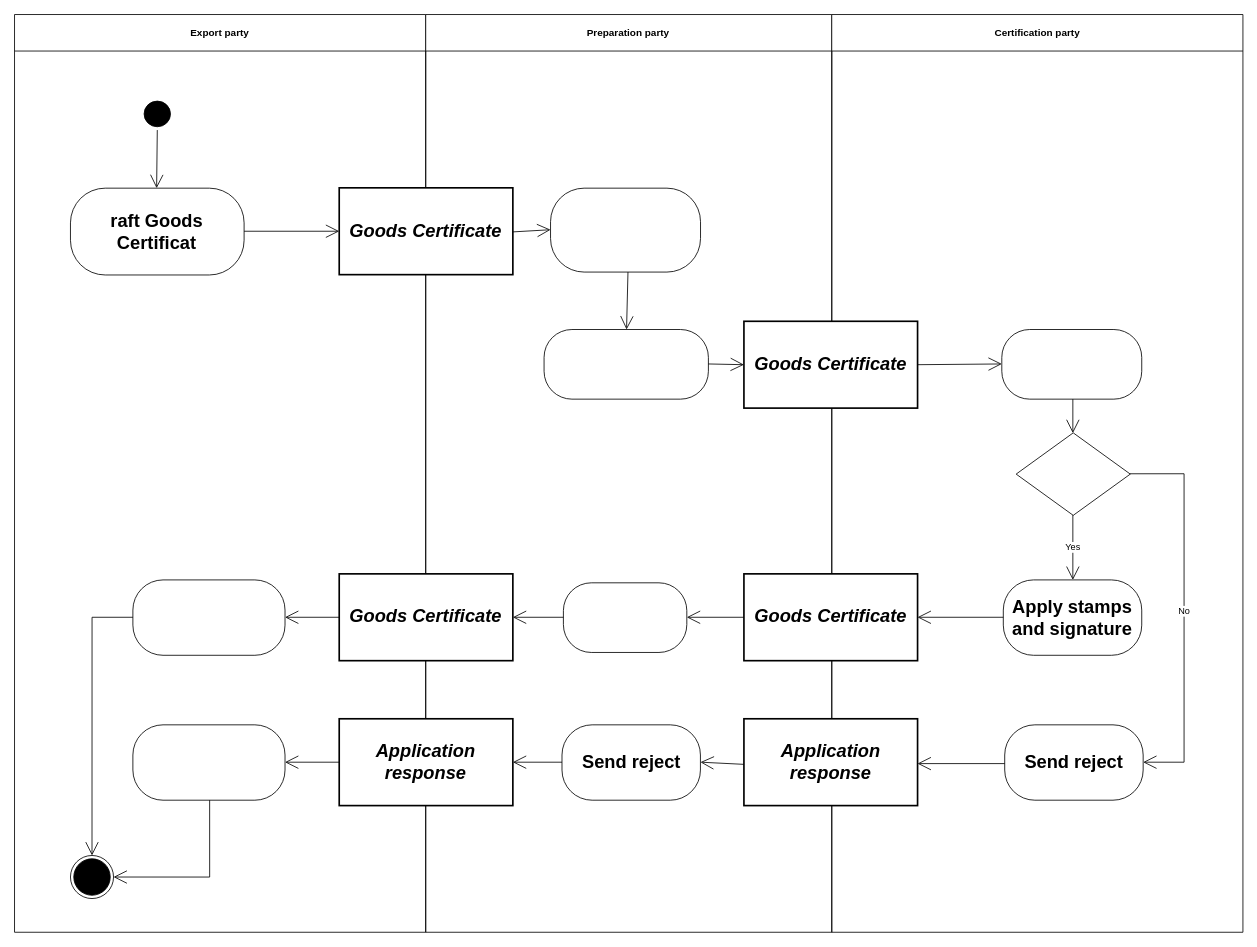
Some shapes in this 1257 by 947 pixel diagram are drawn without their labels. Here are the shapes that lost their labels. From the top down, the centre of each, then its label:
At point (625, 229): "Prepare for export".
At point (625, 364): "Issue Trade Certificates for export as bundle".
At point (1071, 364): "Validate Trade Certificate".
At point (1072, 473): "OK?".
At point (208, 617): "Receive Goods Certificate".
At point (625, 617): "Send authorized copy".
At point (208, 762): "Receive reject".
